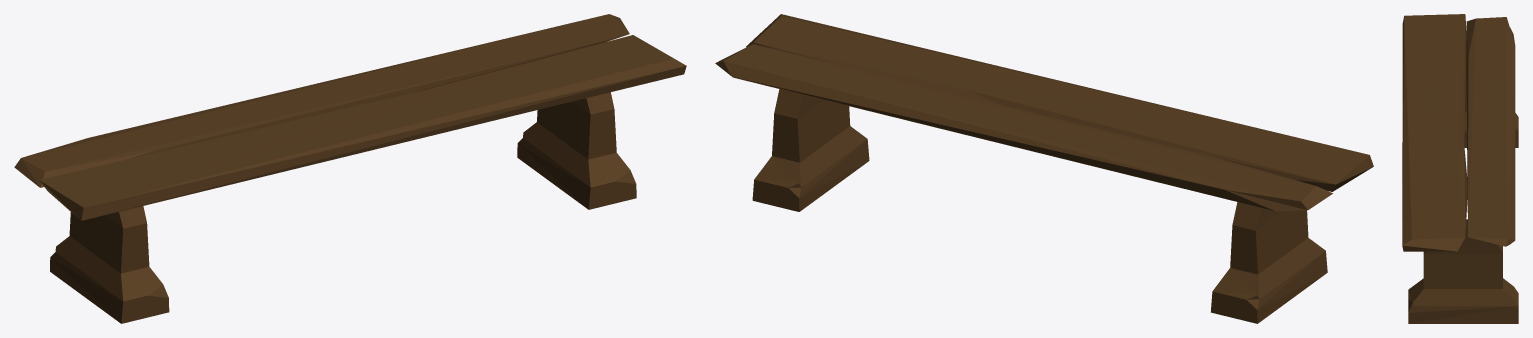
File: SM_bench.fbx
3 views of the same model, side by side, from view 1: azimuth 30°, elevation 25°; view 2: azimuth 150°, elevation 25°; view 3: azimuth 270°, elevation 25° (orthographic). The views are drawn at different scales.
Visible parts, largest first — view 1: Plane043; view 2: Plane043; view 3: Plane043.
Boxes of the visible parts, x1,y1,x2,y2 form: Plane043: (14, 14, 686, 323); Plane043: (715, 14, 1373, 323); Plane043: (1402, 14, 1518, 323).
Bounding box in the file's own units: 114 × 23.07 × 24.56.
